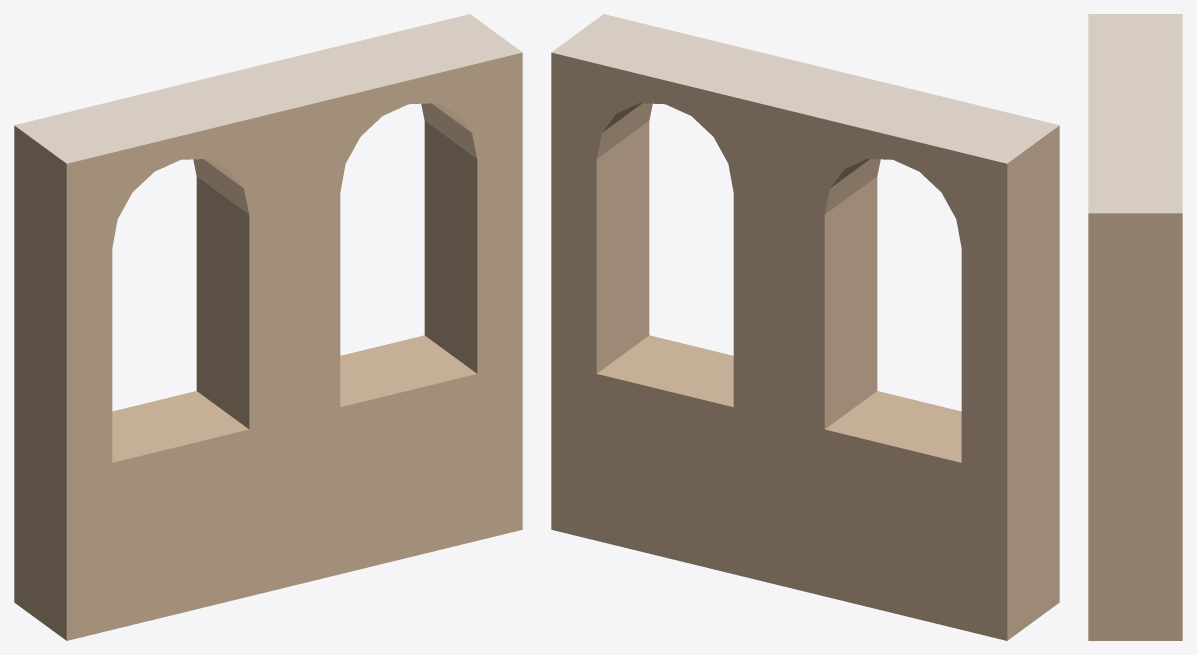
Rendered from Wall_Straight_Windows.obj.
3 renders of one model, left to right at view 1: azimuth 30°, elevation 25°; view 2: azimuth 150°, elevation 25°; view 3: azimuth 270°, elevation 25°, orthographic. The views are drawn at different scales.
Visible parts, largest first — view 1: object1; view 2: object1; view 3: object1.
Boxes of the visible parts, <box> form: object1: <box>14,14,522,640</box>; object1: <box>551,14,1059,640</box>; object1: <box>1088,14,1182,640</box>.
Bounding box in the file's own units: 1 × 1 × 0.2.
